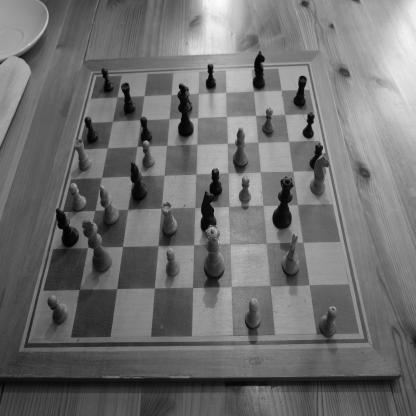black-bishop: (56, 208, 80, 248), (130, 160, 147, 202)
black-king: (177, 82, 194, 138)
black-knight: (200, 190, 217, 232), (252, 50, 266, 89)
black-pawn: (209, 167, 223, 197), (310, 142, 324, 170), (84, 116, 98, 144), (302, 112, 315, 139), (101, 67, 114, 93), (140, 116, 153, 142), (206, 62, 217, 90), (185, 85, 193, 112)
black-queen: (272, 175, 294, 229)
black-rook: (120, 82, 136, 114), (293, 74, 307, 107)
white-bishop: (99, 185, 120, 225), (232, 126, 249, 167)
white-king: (81, 220, 113, 272)
white-knight: (309, 152, 330, 196), (282, 233, 300, 276)
white-pawn: (47, 294, 69, 325), (318, 305, 338, 338), (244, 297, 262, 329), (69, 182, 87, 212), (166, 247, 180, 277), (142, 140, 155, 169), (239, 175, 252, 204), (262, 107, 274, 135)
white-queen: (204, 224, 225, 279)
white-rook: (74, 138, 92, 172), (161, 201, 177, 236)
